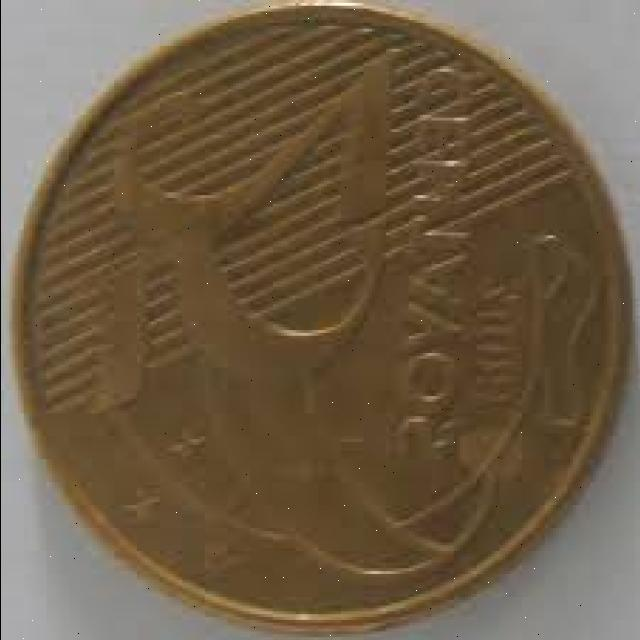25 cent: (9, 12, 610, 614)
